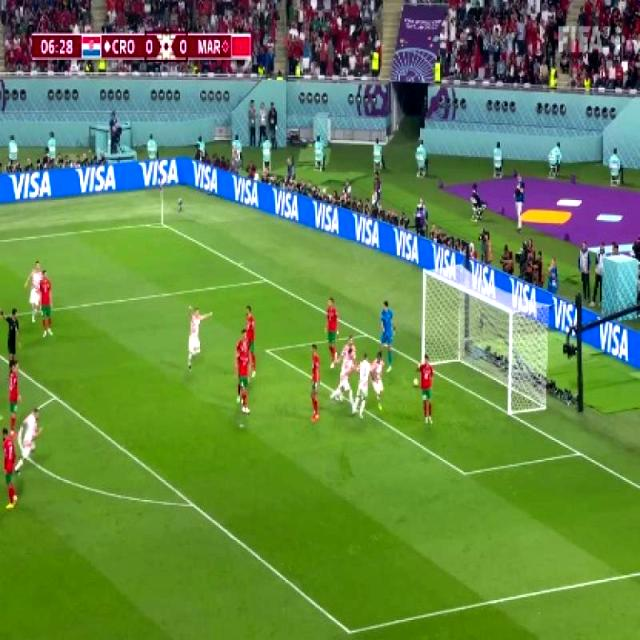bigarea_bottom_inner: (336, 612, 362, 640)
bigarea_top_outter: (256, 268, 274, 289)
bottom_arc_area_intersection: (182, 489, 202, 517)
corner: (151, 216, 169, 230)
smallarea_bottom_inner: (452, 455, 476, 490)
smallarea_bottom_outter: (568, 439, 588, 464)
smallarea_top_inner: (258, 336, 276, 362)
smallarea_top_outter: (356, 322, 374, 343)
top_arc_area_intersection: (45, 384, 63, 406)
